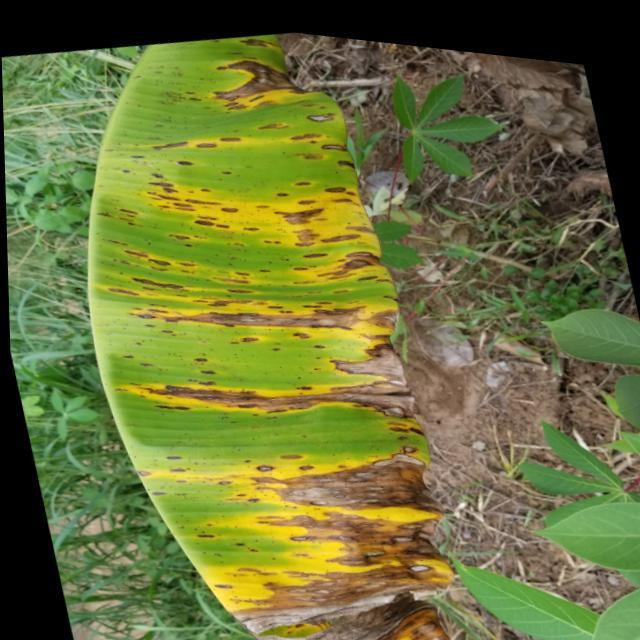Early_rust: (47, 0, 477, 640)
